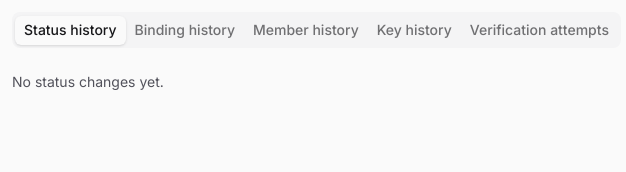
Test case: LicenceHistory (extra) › loads key regeneration events on the Key tab
Click the tab "Key history" at (414, 30), box [368, 16, 461, 44]
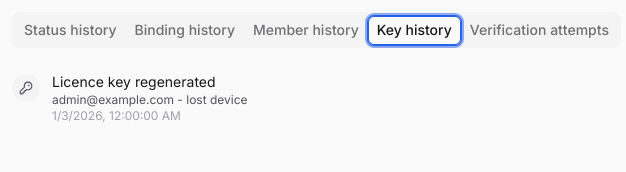
Expected: the text "Licence key regenerated" is shown, [52, 73, 216, 90]
